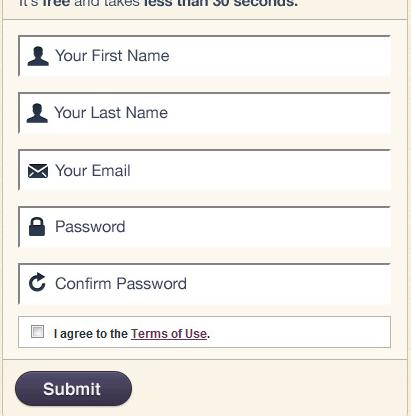button: (15, 371, 134, 406)
checkbox: (29, 321, 46, 343)
checkbox_with_label: (26, 318, 212, 344)
field: (17, 263, 396, 307), (17, 35, 393, 79), (17, 149, 393, 193), (17, 206, 393, 249), (17, 92, 391, 135)
